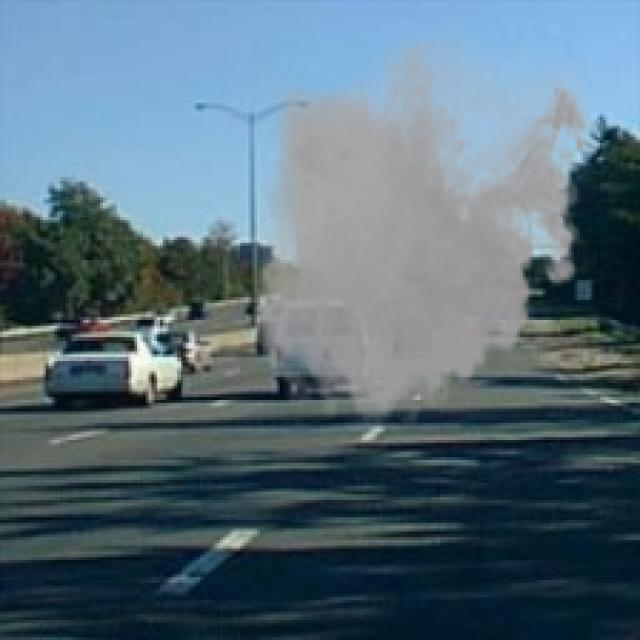Smoke: (243, 17, 600, 437)
